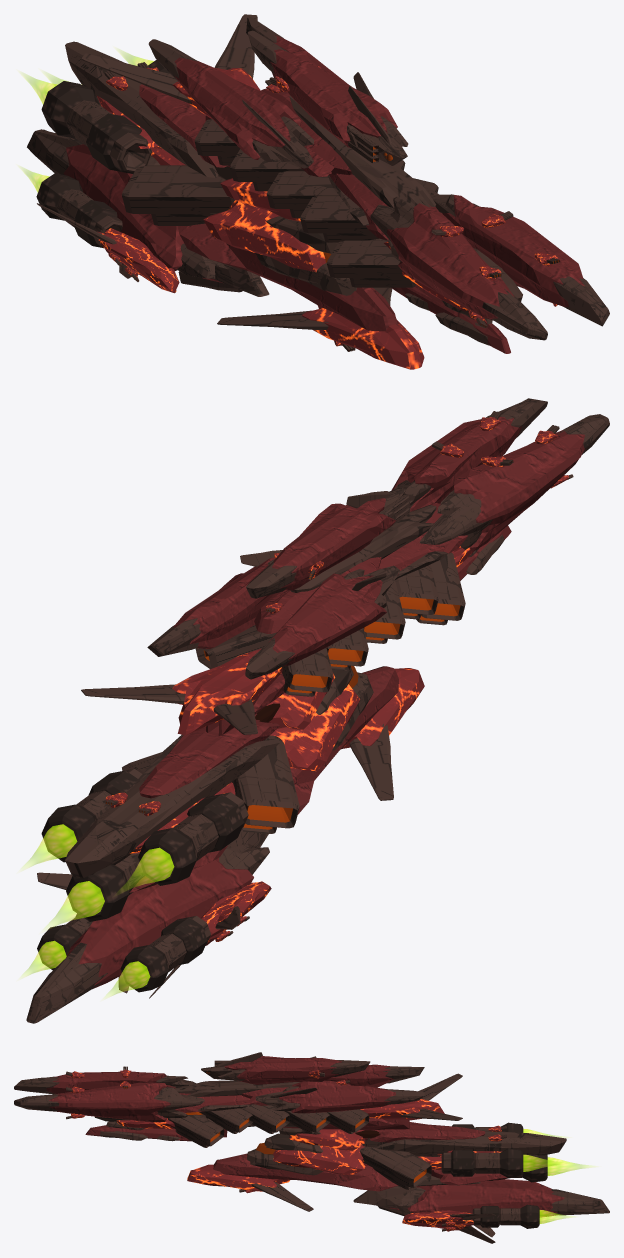
File: vox.gltf
3 renders of one model, top to bottom at view 1: azimuth 30°, elevation 25°; view 2: azimuth 150°, elevation 25°; view 3: azimuth 270°, elevation 25°, orthographic. The views are drawn at different scales.
Parts seen in each view (by area): view 1: body, engine; view 2: body, engine; view 3: body, engine.
Boxes of the visible parts, box(x1,y1,x2,y2) form: body: box(27, 14, 609, 369); engine: box(20, 49, 153, 192); body: box(26, 398, 609, 1023); engine: box(22, 824, 174, 997); body: box(14, 1052, 609, 1243); engine: box(523, 1129, 592, 1223).
Size of the model in its own units: 2.08 by 3.38 by 9.66.
5 materials, 5 textured.
